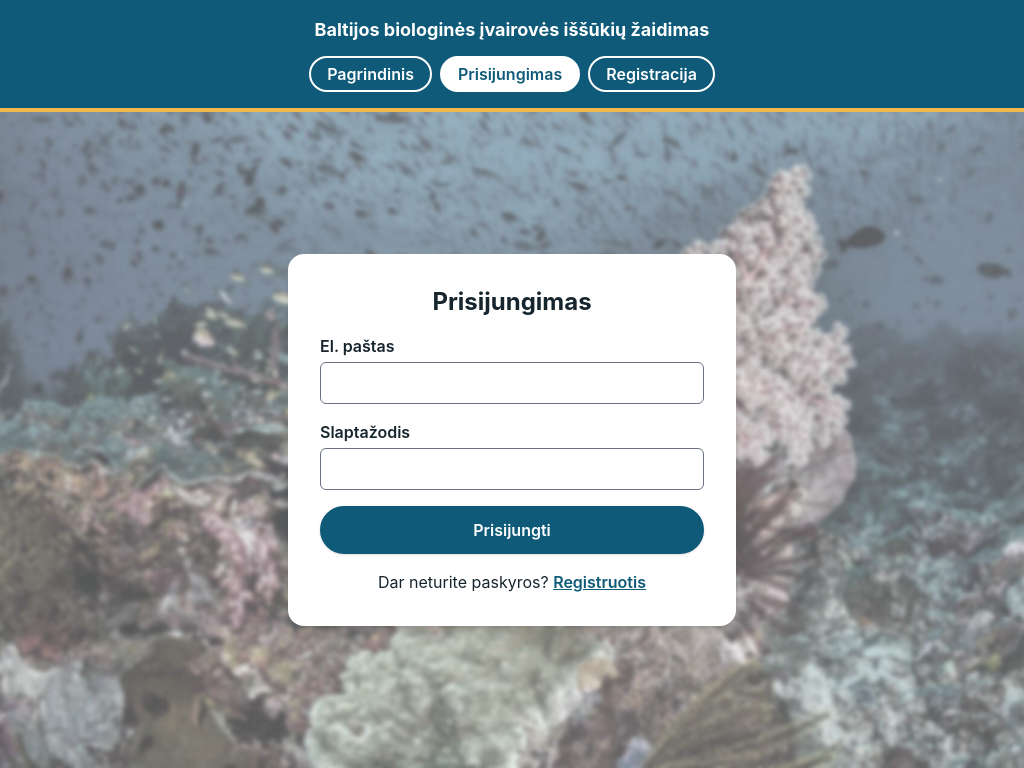
it: LoginPage › shows account blocked error on 403
Type "user@example.com" into the field labelled "El. paštas" at [512, 383], box [320, 362, 704, 404]
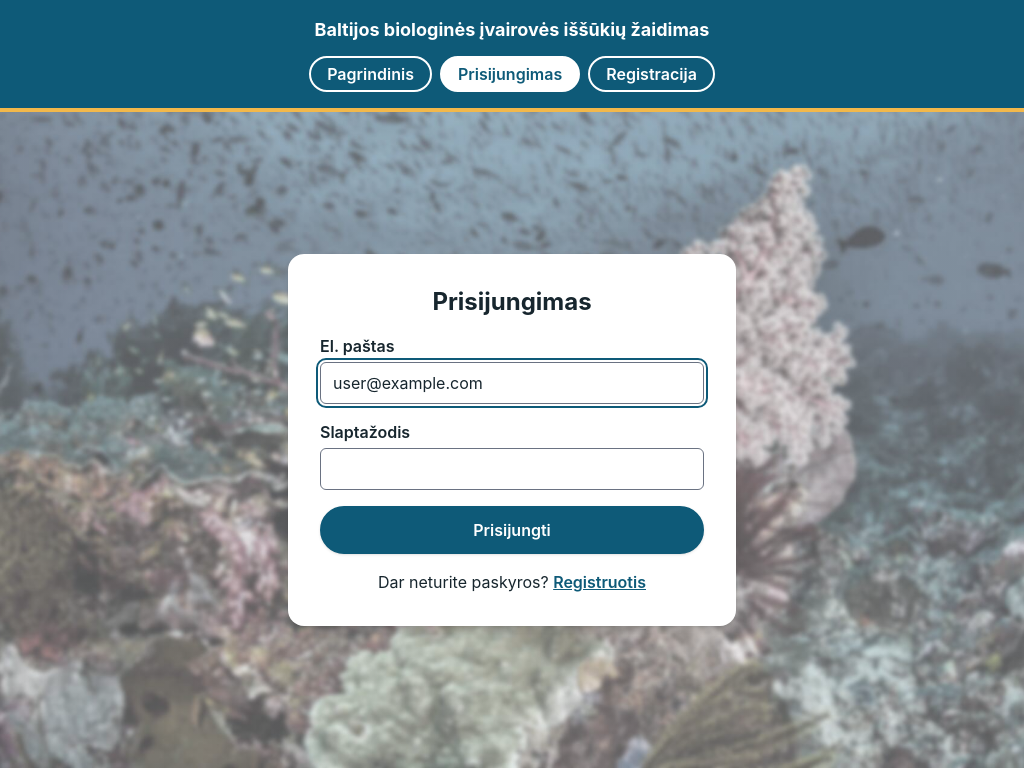
Type "secret123" into the password field labelled "Slaptažodis" at [512, 469], box [320, 448, 704, 490]
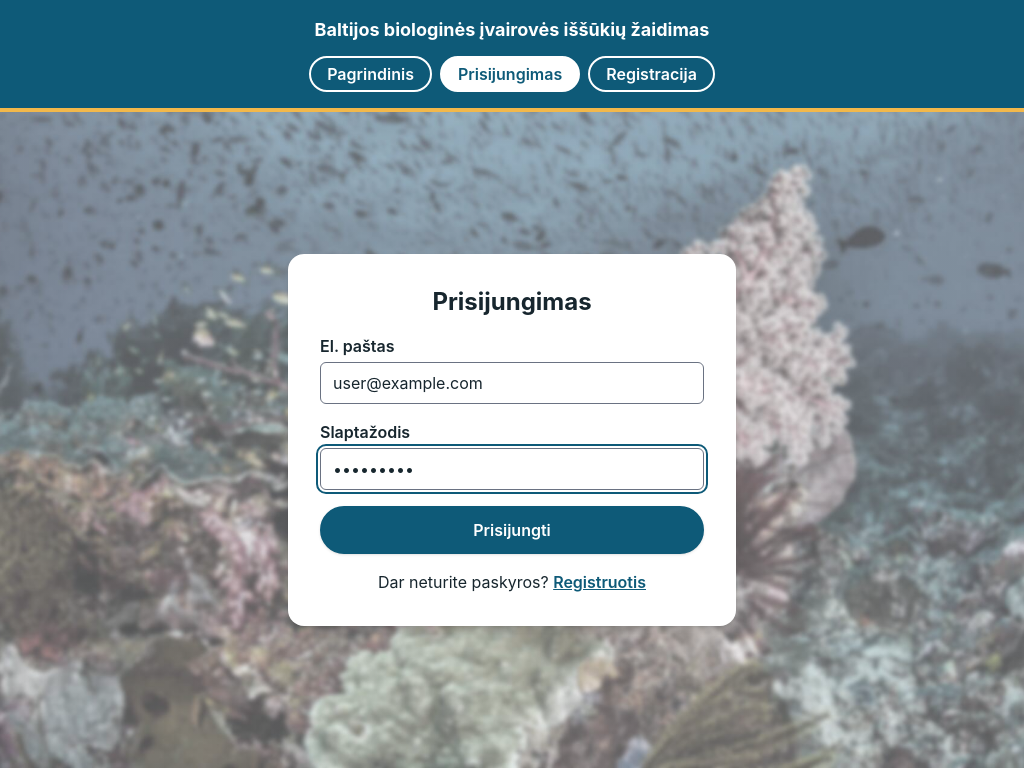
Click the button "Prisijungti" at [512, 530], box [320, 506, 704, 554]
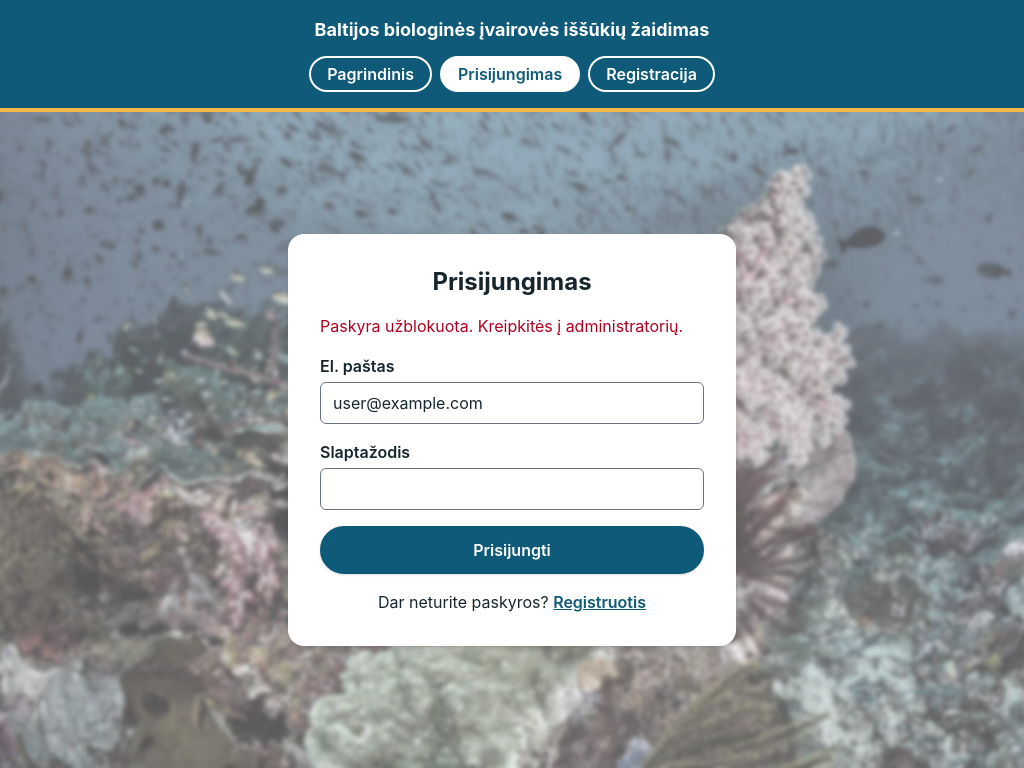
Expected: the text "Paskyra užblokuota. Kreipkitės į administratorių." is shown, [320, 314, 704, 338]
